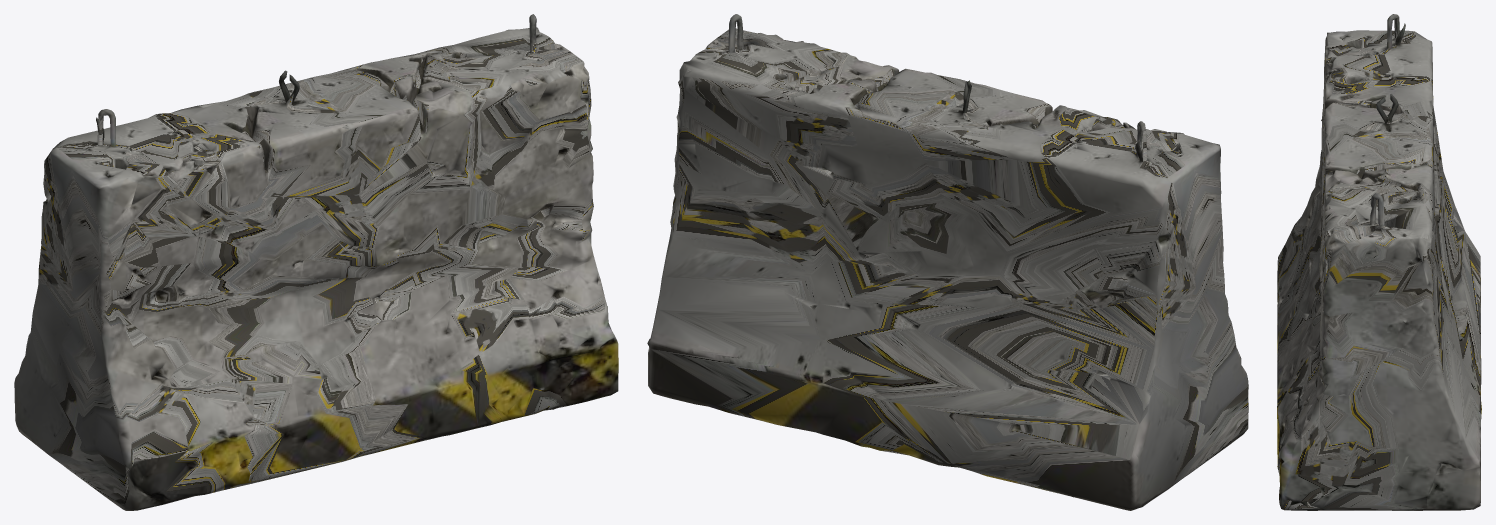
Rendered from blast_barrier.glb.
The picture shows the model from 3 angles, left to right: view 1: azimuth 30°, elevation 25°; view 2: azimuth 150°, elevation 25°; view 3: azimuth 270°, elevation 25°; orthographic projection. The views are drawn at different scales.
Visible parts, largest first — view 1: tripo_node_8ab7c8fe-5221-4eb2-b669-5aff44e9e9d0; view 2: tripo_node_8ab7c8fe-5221-4eb2-b669-5aff44e9e9d0; view 3: tripo_node_8ab7c8fe-5221-4eb2-b669-5aff44e9e9d0.
Boxes of the visible parts, x1,y1,x2,y2 form: tripo_node_8ab7c8fe-5221-4eb2-b669-5aff44e9e9d0: [14, 14, 618, 510]; tripo_node_8ab7c8fe-5221-4eb2-b669-5aff44e9e9d0: [647, 14, 1248, 510]; tripo_node_8ab7c8fe-5221-4eb2-b669-5aff44e9e9d0: [1277, 14, 1481, 510].
Bounding box in the file's own units: 0.9994 × 0.6757 × 0.4091.
Materials: 1 (1 with a texture image).
